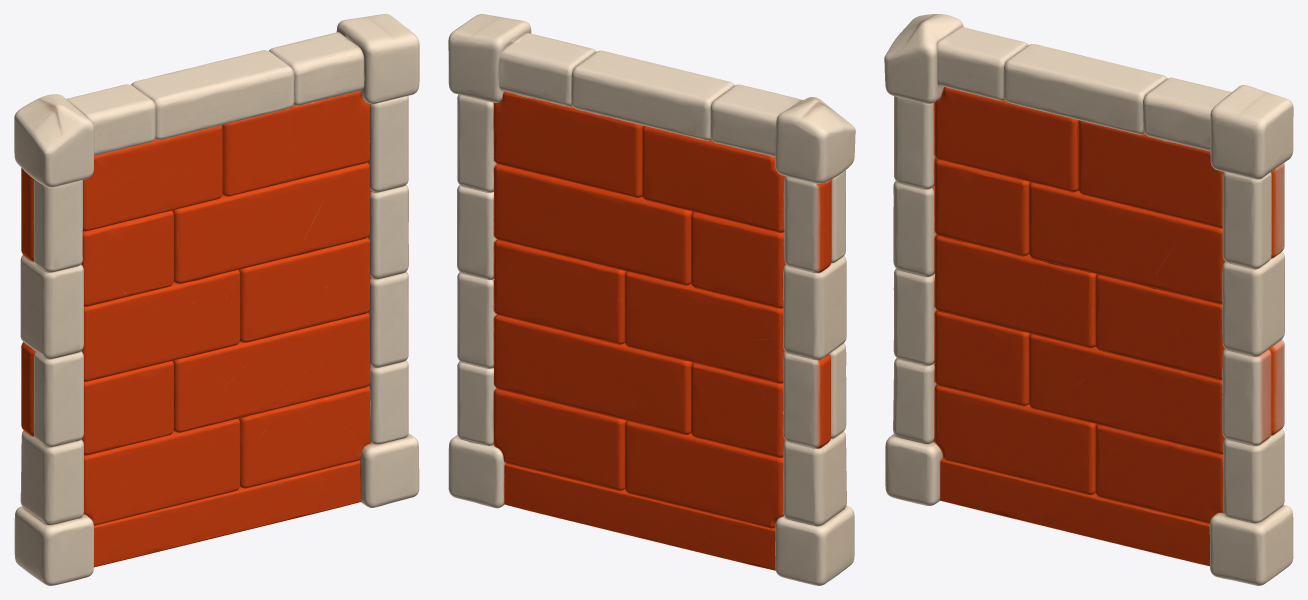
The model's file is Meshy_AI_roofline_wall_run_pan_1024085035_image-to-3d-texture.glb.
The picture shows the model from 3 angles, left to right: view 1: azimuth 30°, elevation 25°; view 2: azimuth 150°, elevation 25°; view 3: azimuth 330°, elevation 25°; orthographic projection.
Bounding box in the file's own units: 1.61 × 1.9 × 0.2564.
1 material, 1 textured.
